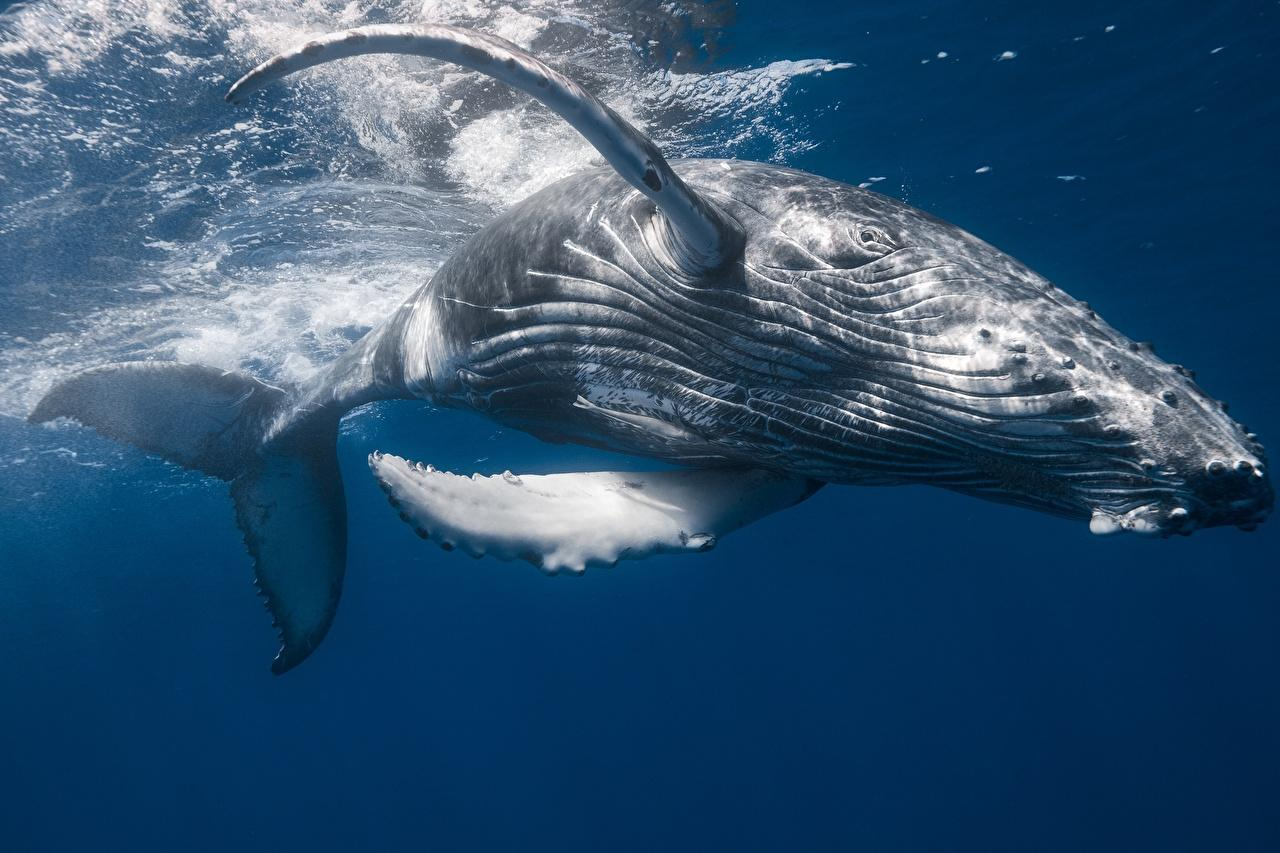fish: (25, 27, 1280, 675)
